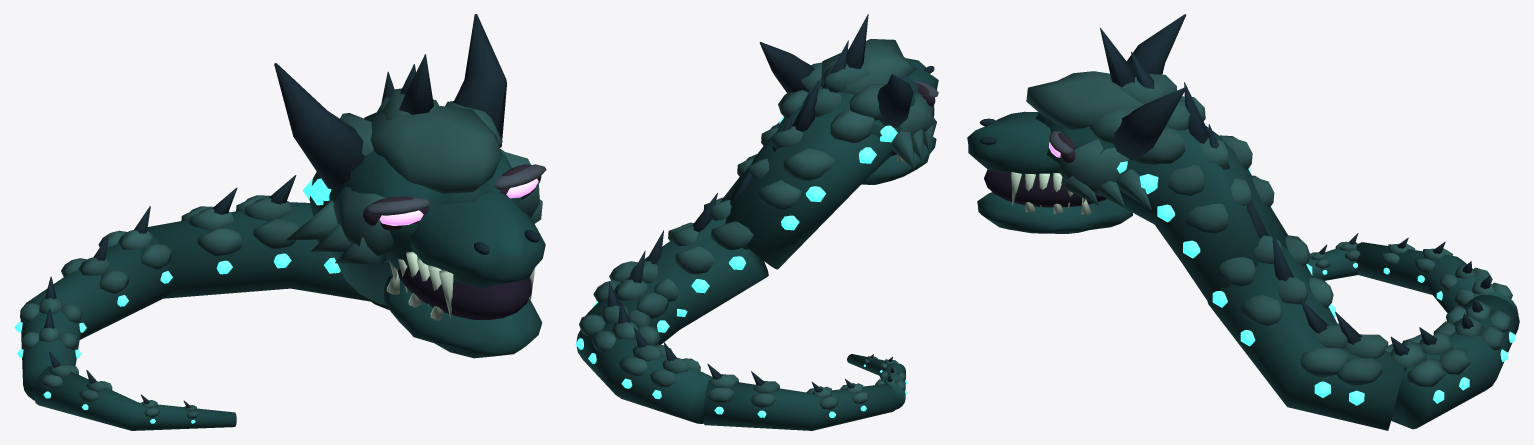
Rendered from jefe-leviatan.glb.
3 renders of one model, left to right at view 1: azimuth 30°, elevation 25°; view 2: azimuth 150°, elevation 25°; view 3: azimuth 270°, elevation 25°, orthographic. The views are drawn at different scales.
Parts seen in each view (by area): view 1: Head, Body_3, Body_4, Body_5, Jaw, Body_1; view 2: Body_1, Body_2, Body_3, Body_4, Head, Body_5, Jaw; view 3: Body_2, Head, Body_1, Body_3, Body_4, Jaw, Body_5.
Part boxes in pixels (<box>): Head: <box>274,14,546,319</box>; Body_3: <box>147,175,370,301</box>; Body_4: <box>14,206,172,400</box>; Body_5: <box>33,351,236,430</box>; Jaw: <box>384,271,542,358</box>; Body_1: <box>302,54,502,305</box>; Body_1: <box>720,14,897,269</box>; Body_2: <box>585,173,768,344</box>; Body_3: <box>575,282,712,423</box>; Body_4: <box>703,363,897,430</box>; Head: <box>759,39,938,169</box>; Body_5: <box>847,354,907,409</box>; Jaw: <box>862,137,936,184</box>; Body_2: <box>1206,198,1404,430</box>; Head: <box>967,14,1186,210</box>; Body_1: <box>1089,28,1287,300</box>; Body_3: <box>1385,294,1519,429</box>; Body_4: <box>1356,237,1518,313</box>; Jaw: <box>977,192,1132,233</box>; Body_5: <box>1307,233,1360,280</box>.
Size of the model in its own units: 0.7352 by 0.6508 by 1.
